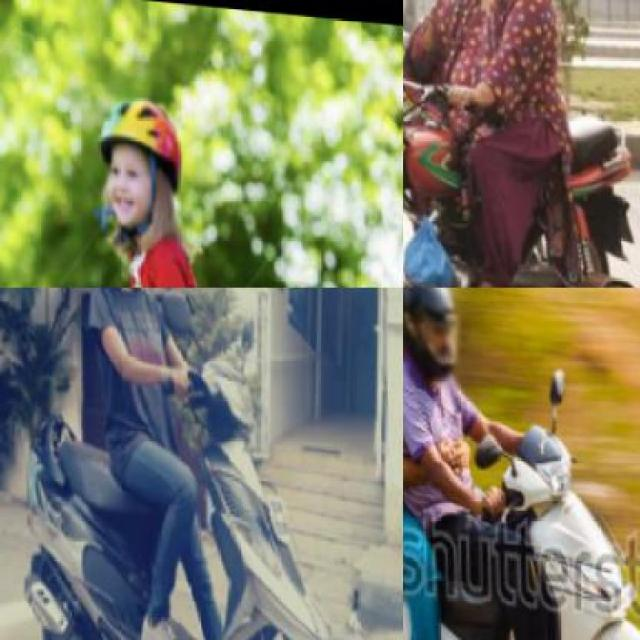With Helmet: (87, 77, 187, 252), (403, 288, 463, 388)
